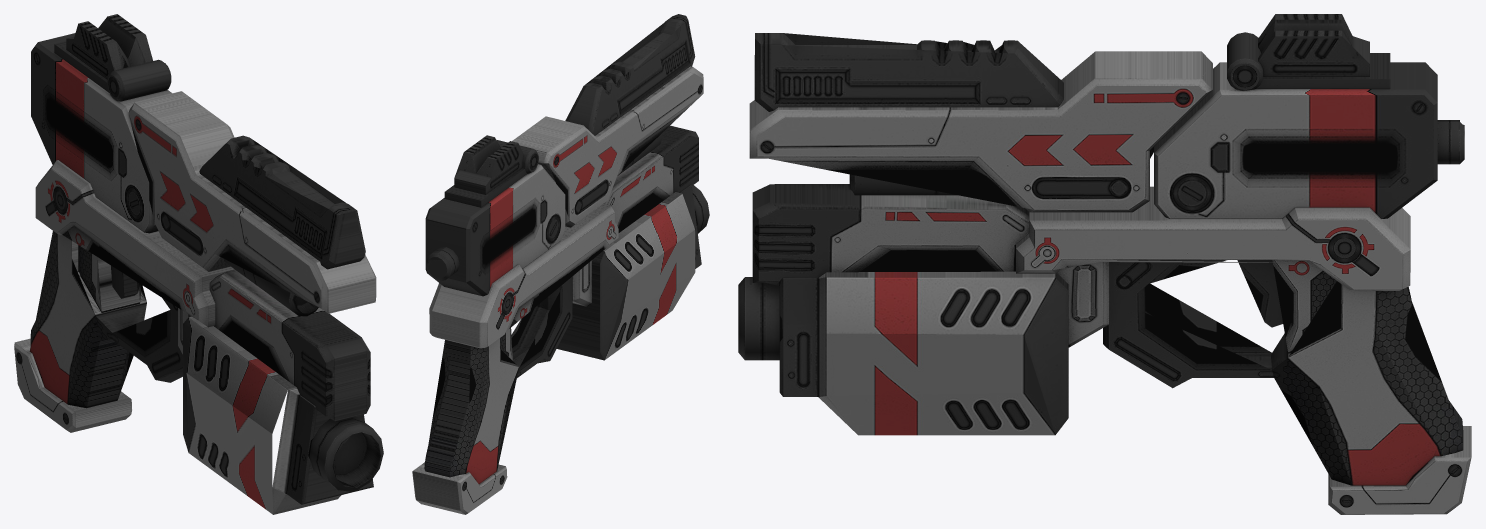
File: blaster_low.glb
3 renders of one model, left to right at view 1: azimuth 30°, elevation 25°; view 2: azimuth 150°, elevation 25°; view 3: azimuth 270°, elevation 25°, orthographic. The views are drawn at different scales.
Parts seen in each view (by area): view 1: BaseMesh_LowPoly; view 2: BaseMesh_LowPoly; view 3: BaseMesh_LowPoly.
Part boxes in pixels (x1,y1,x2,y2): BaseMesh_LowPoly: (14, 14, 383, 514); BaseMesh_LowPoly: (412, 14, 709, 514); BaseMesh_LowPoly: (738, 14, 1471, 514).
Bounding box in the file's own units: 0.0557 × 0.2242 × 0.3142.
Materials: 1 (1 with a texture image).
